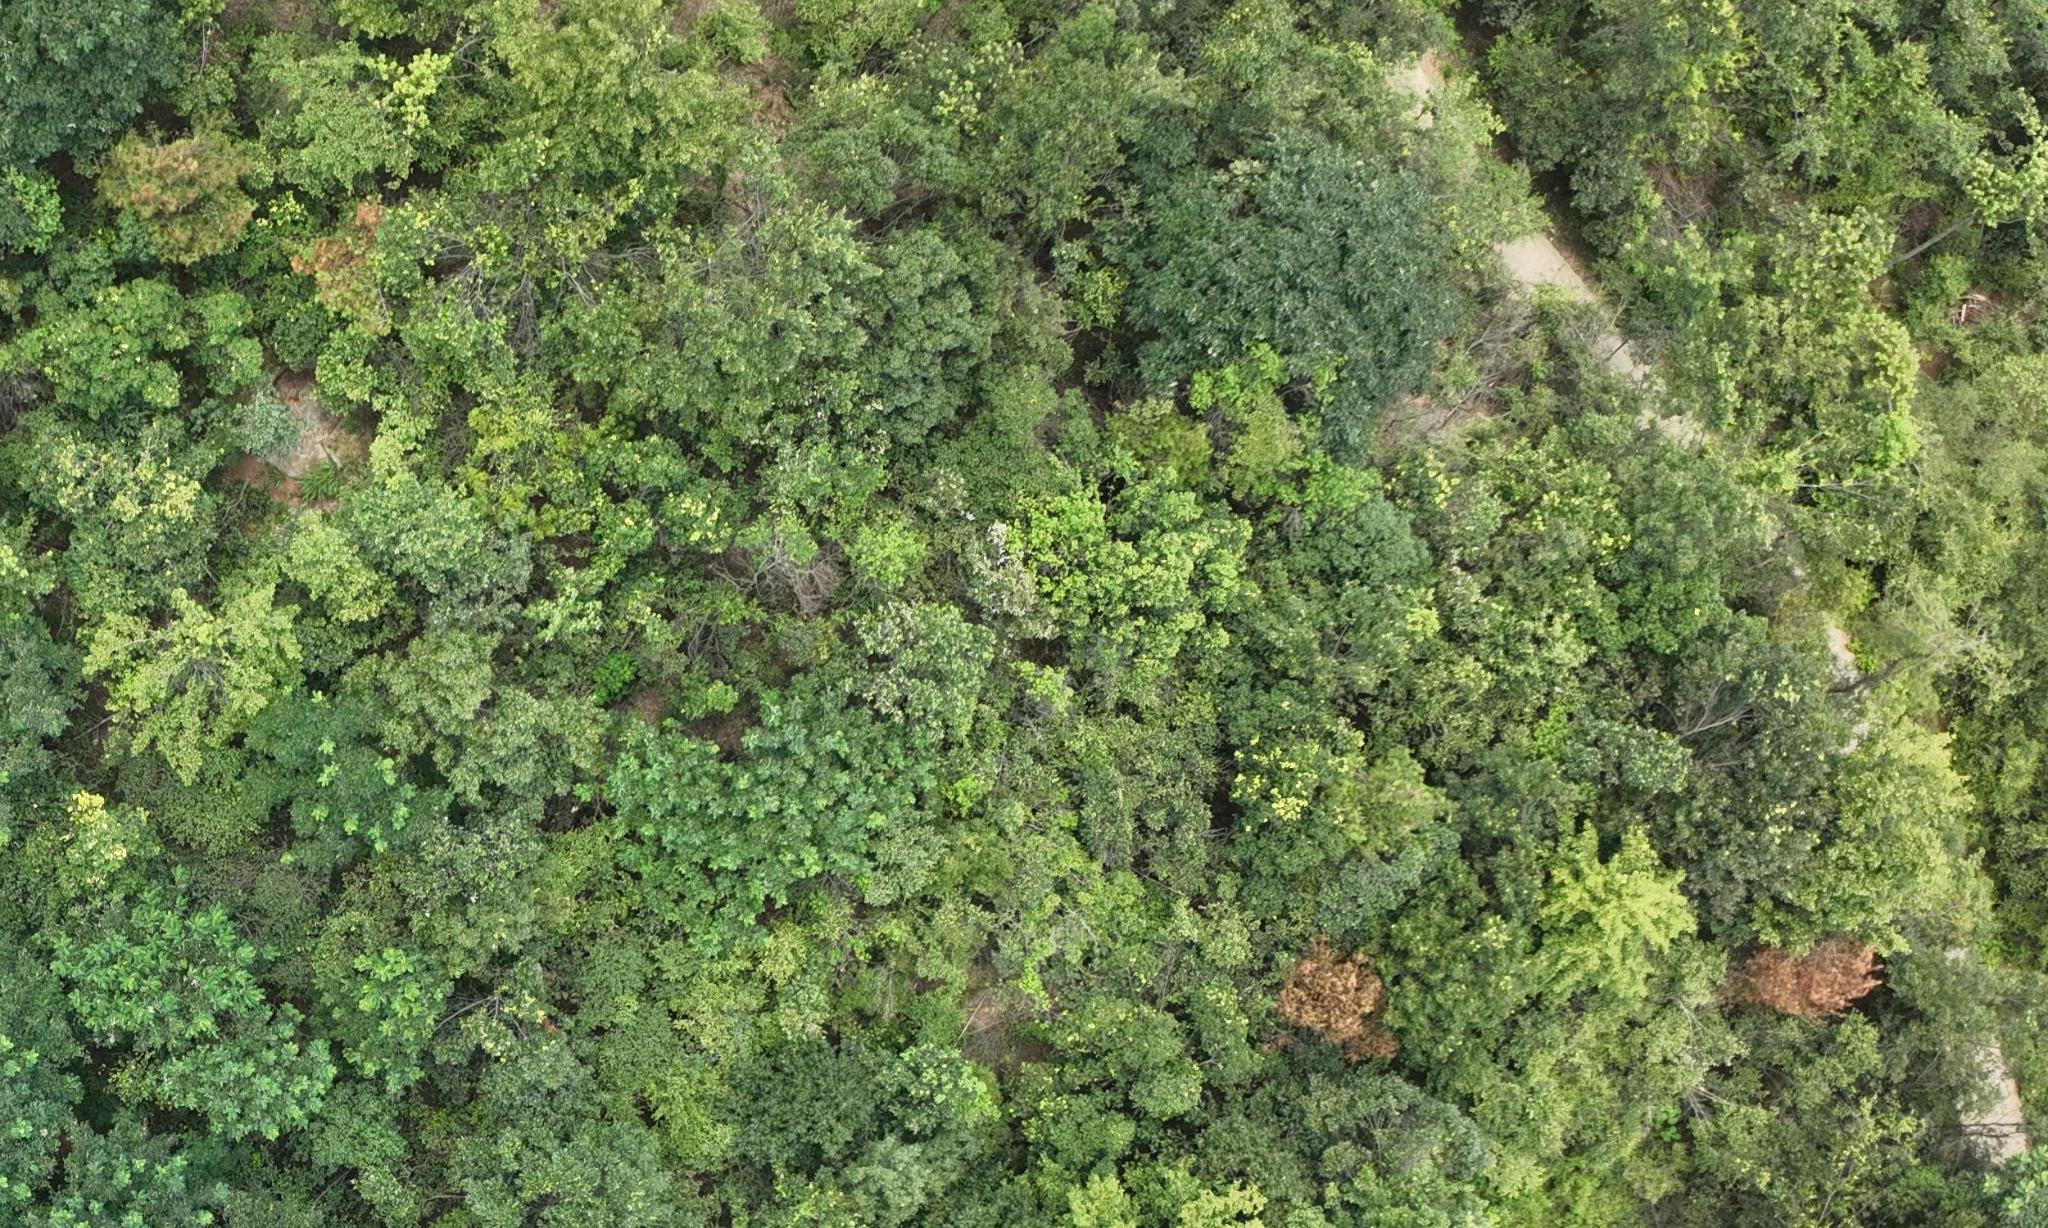heavy: (1282, 941, 1403, 1069), (1741, 936, 1890, 1015)
